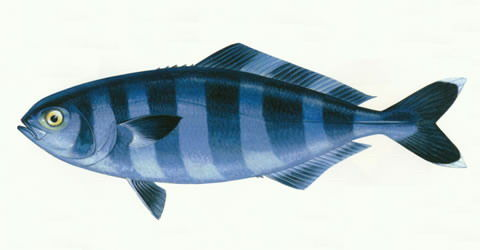fish: (18, 41, 467, 221)
